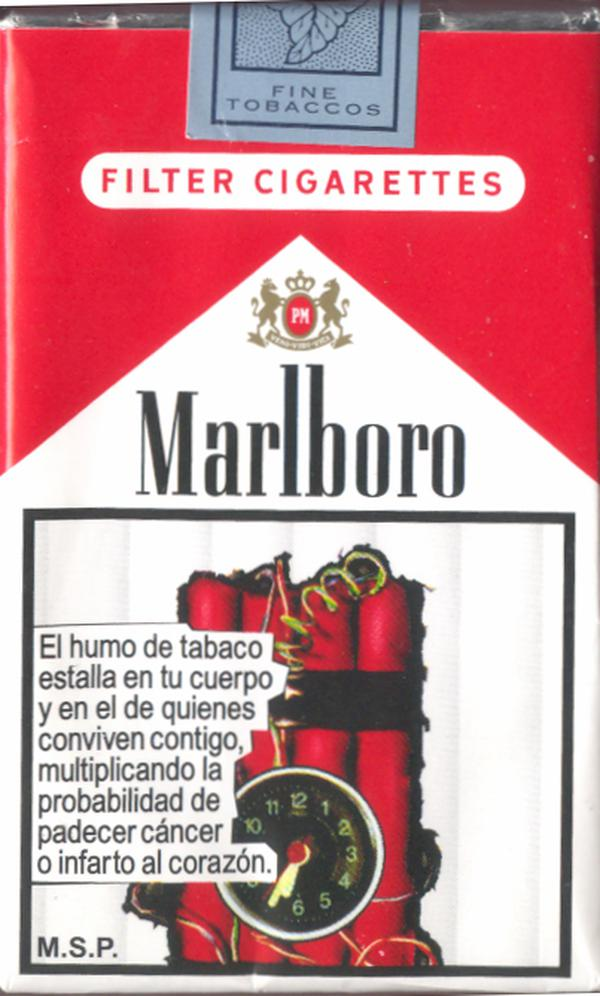marlboro_red: (7, 32, 590, 988)
